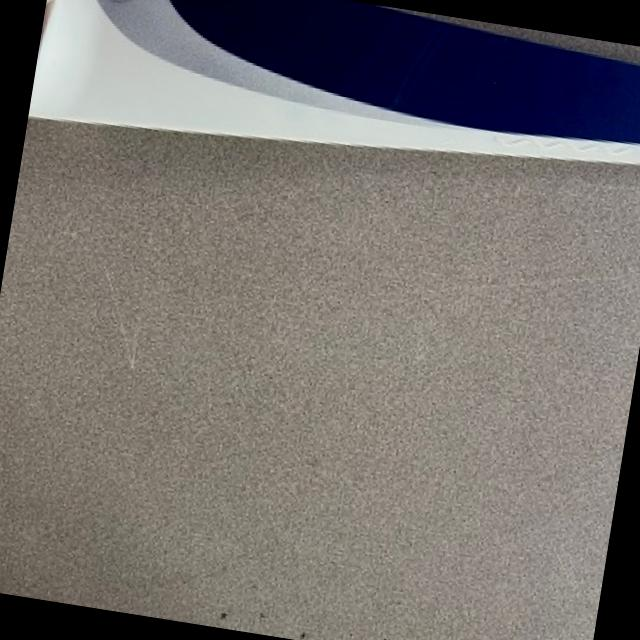healthy: (0, 116, 640, 640), (29, 0, 640, 163)
